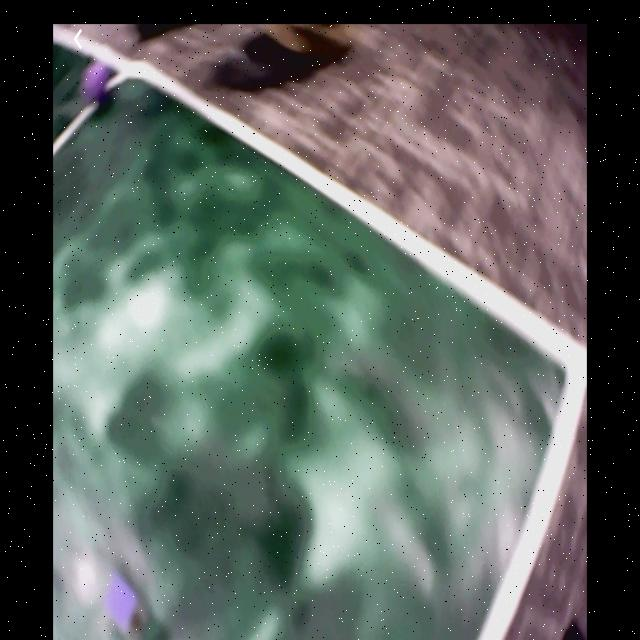ball: (82, 60, 109, 102)
